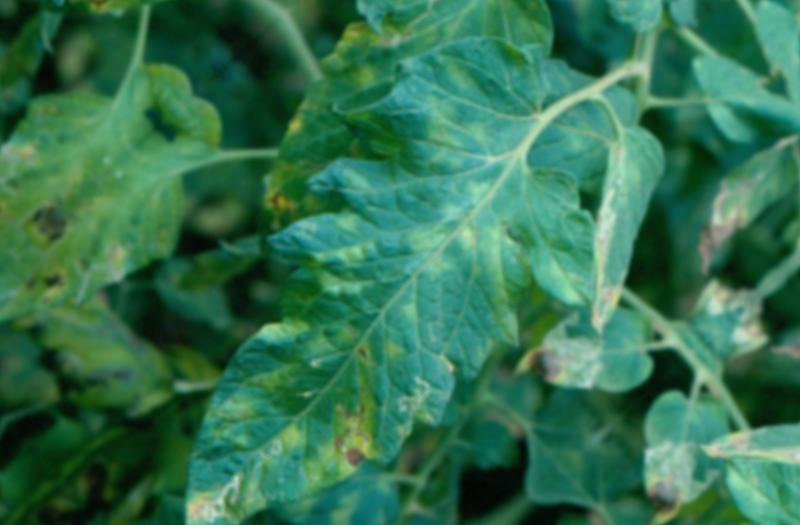Tomato mold leaf: (25, 0, 690, 525)
